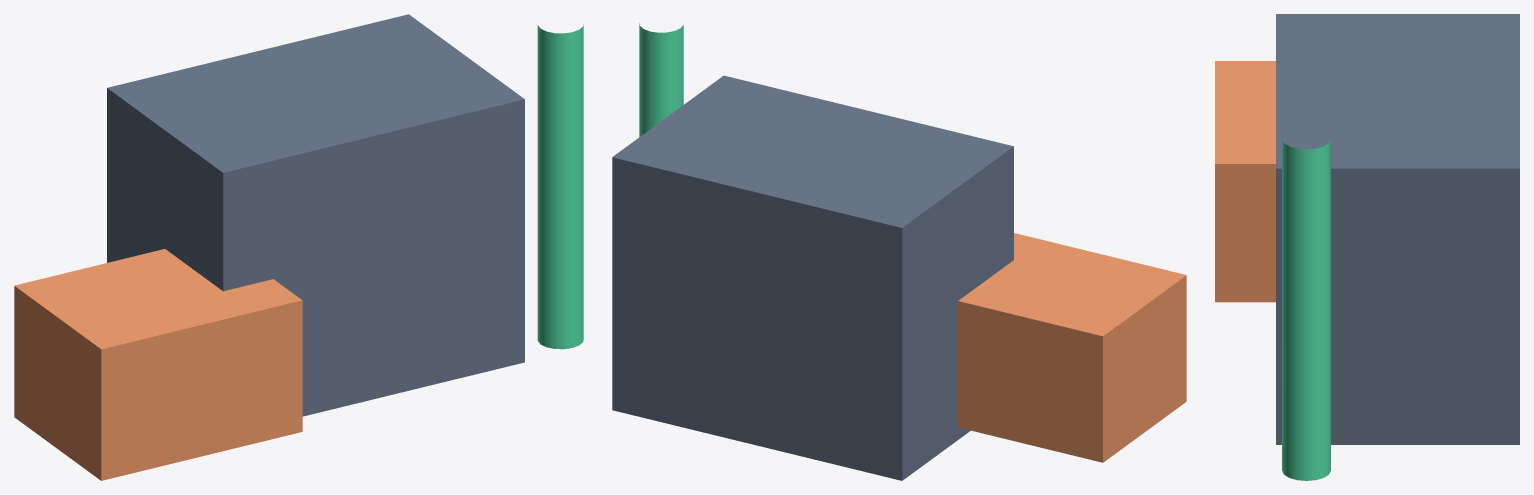
File: electrical_maintenance_practice.glb
3 views of the same model, side by side, from view 1: azimuth 30°, elevation 25°; view 2: azimuth 150°, elevation 25°; view 3: azimuth 270°, elevation 25° (orthographic). The views are drawn at different scales.
Visible parts, largest first — view 1: OilBDVTestCellCup, MotorInsulationMegger, EarthPitTestClamp; view 2: OilBDVTestCellCup, MotorInsulationMegger, EarthPitTestClamp; view 3: OilBDVTestCellCup, EarthPitTestClamp, MotorInsulationMegger.
Part boxes in pixels (<box>): OilBDVTestCellCup: <box>107,14,524,416</box>; MotorInsulationMegger: <box>14,249,302,480</box>; EarthPitTestClamp: <box>537,24,583,349</box>; OilBDVTestCellCup: <box>612,75,1013,480</box>; MotorInsulationMegger: <box>958,233,1186,462</box>; EarthPitTestClamp: <box>639,23,683,136</box>; OilBDVTestCellCup: <box>1276,14,1519,444</box>; EarthPitTestClamp: <box>1282,139,1330,480</box>; MotorInsulationMegger: <box>1215,61,1275,302</box>.
Size of the model in its own units: 2.08 by 1.2 by 1.
